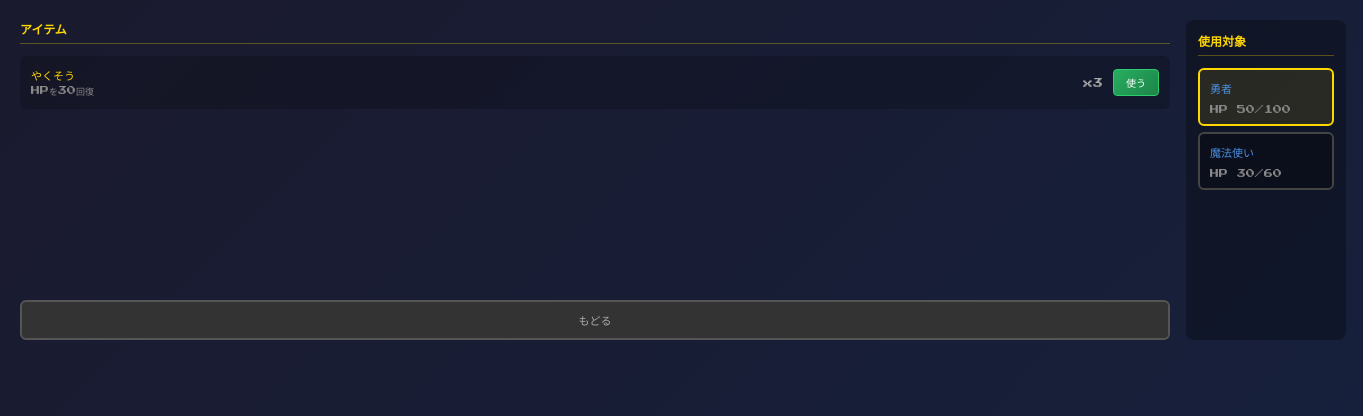
ItemsPanel › アイテム使用 › 使用失敗時にエラーメッセージが表示される
The width and height of the screenshot is (1363, 416).
What coordinates should you click on to do the following:
click the button "使う"
I would click on:
 (1136, 82)
Its box is [1113,69,1159,96].
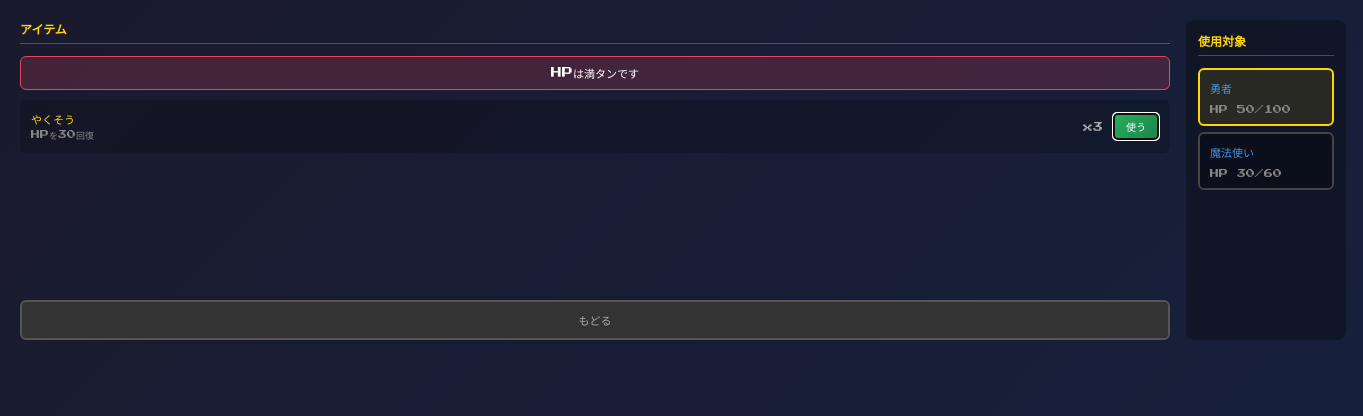
Result: the text "HPは満タンです" is shown at [20,56,1170,90]
